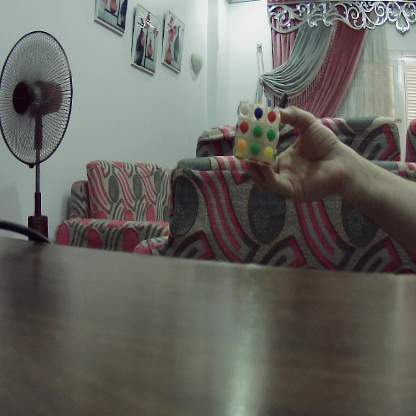Rubix Cube: (237, 101, 280, 163)
